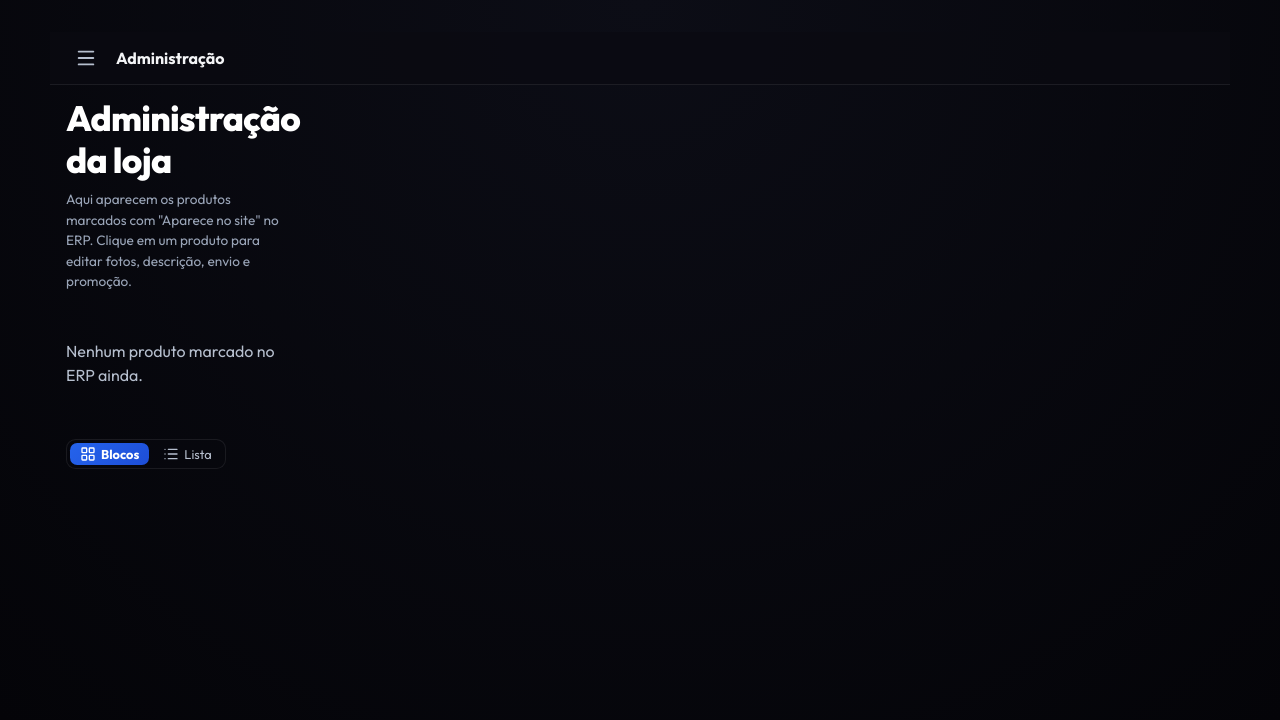
Scenario: AdminLayout e AdminMenu › UT-343 "Sair" chama erp.auth.signOut e mostra o login do admin
The width and height of the screenshot is (1280, 720).
Expected: the heading "Administração da loja" is shown, left=66, top=97, right=286, bottom=182
Click the button named "Abrir menu".
click(86, 58)  # box left=66, top=38, right=106, bottom=78
(page scrolled)
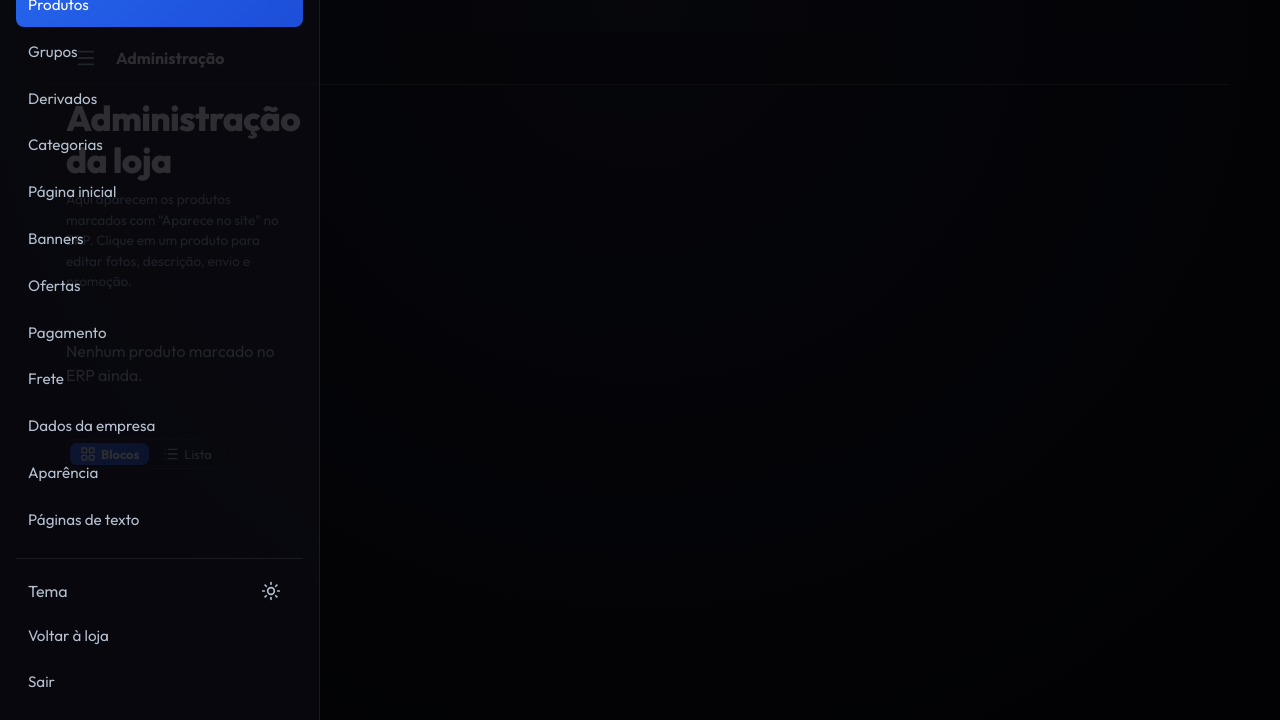
Click the button "Sair".
click(41, 682)  # box left=16, top=661, right=303, bottom=704
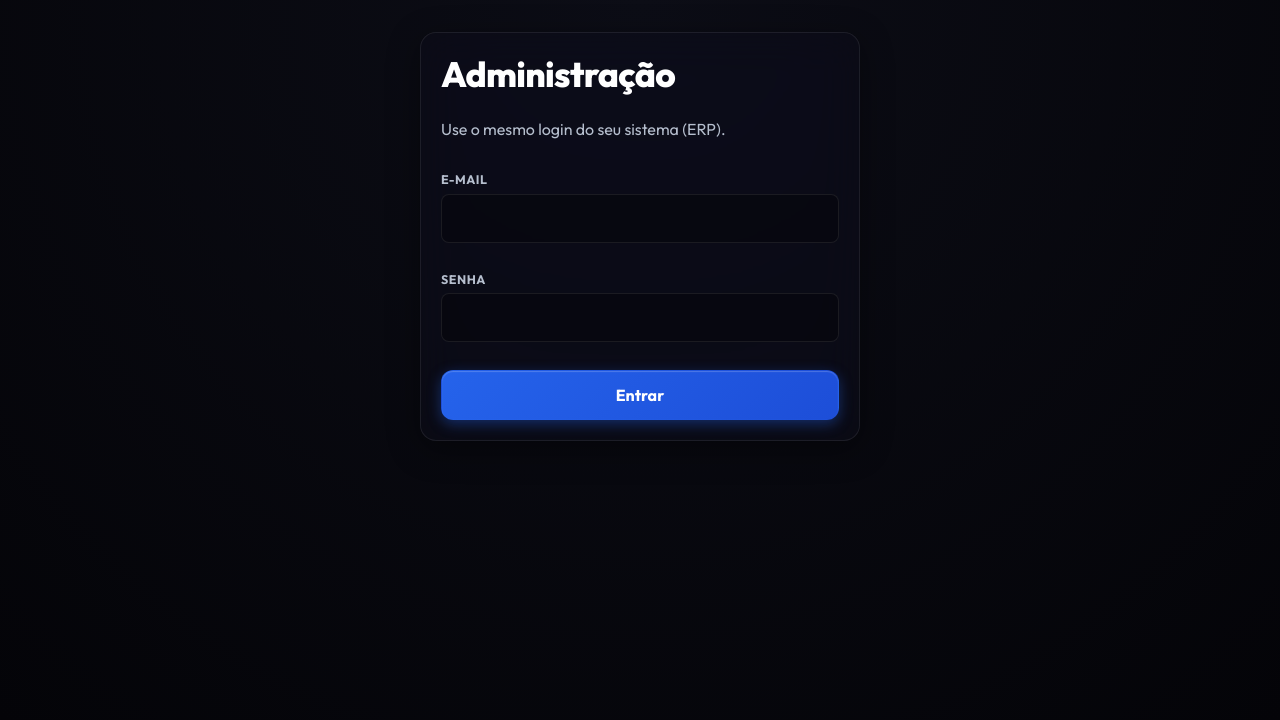
Now the button "Entrar" is shown, box left=441, top=370, right=839, bottom=420
Now the dialog is gone
